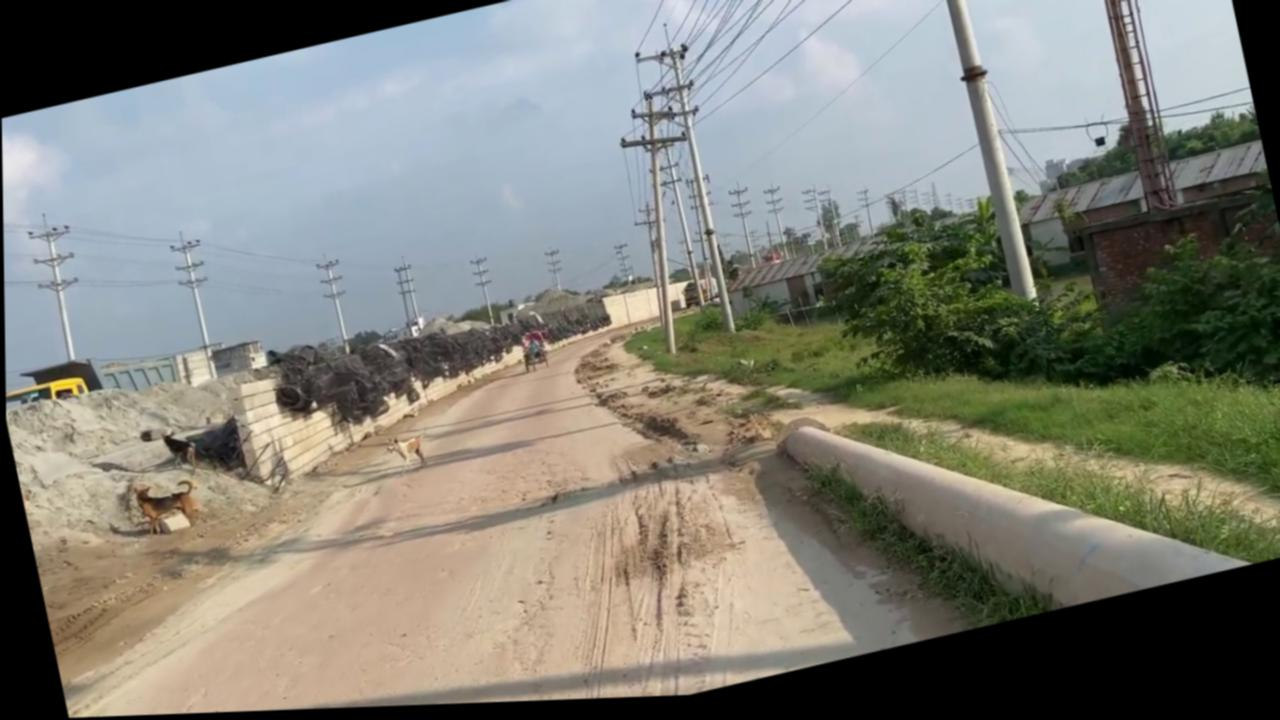Dog: (128, 470, 203, 539), (158, 423, 199, 477), (381, 432, 427, 478)
Muddy road: (19, 302, 970, 720)
Pole: (767, 331, 1251, 670), (922, 0, 1038, 320), (1072, 0, 1168, 224)
Railroad-crossing: (516, 338, 549, 377)
Tree: (4, 372, 87, 412)
